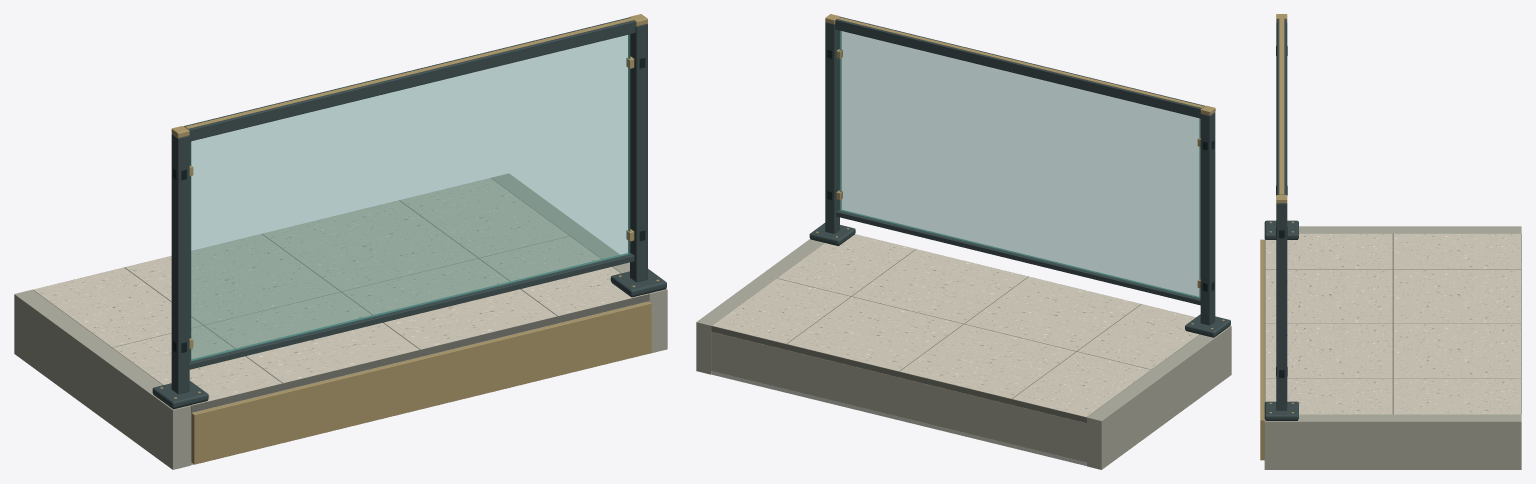
File: mall-atrium-balcony.glb
The picture shows the model from 3 angles, left to right: view 1: azimuth 30°, elevation 25°; view 2: azimuth 150°, elevation 25°; view 3: azimuth 270°, elevation 25°; orthographic projection. The views are drawn at different scales.
Visible parts, largest first — view 1: RAILING_GLASS editable panel, EDGE_Fascia, ENDCAP_Left, FLOOR_Tile_7, FLOOR_Tile_6, FLOOR_Tile_3, FLOOR_Tile_2, FLOOR_Tile_8, RAILING_Continuous top handrail, FLOOR_Tile_5, FLOOR_Tile_4, FLOOR_Tile_1 (+9 smaller); view 2: RAILING_GLASS editable panel, DECK_Slab, ENDCAP_Left, FLOOR_Tile_7, FLOOR_Tile_2, FLOOR_Tile_3, FLOOR_Tile_6, FLOOR_Tile_5, FLOOR_Tile_8, RAILING_Continuous top handrail, FLOOR_Tile_4, FLOOR_Tile_1 (+10 smaller); view 3: ENDCAP_Right, FLOOR_Tile_7, FLOOR_Tile_6, FLOOR_Tile_3, FLOOR_Tile_2, FLOOR_Tile_5, FLOOR_Tile_8, FLOOR_Tile_1, FLOOR_Tile_4, RAILING_Post upright.001, ENDCAP_Left, EDGE_Fascia (+6 smaller).
Part boxes in pixels (x1,y1,x2,y2): RAILING_GLASS editable panel: (190,34,629,360); EDGE_Fascia: (191,301,651,464); ENDCAP_Left: (14,289,190,469); FLOOR_Tile_7: (263,200,476,291); FLOOR_Tile_6: (125,234,339,324); FLOOR_Tile_3: (342,258,556,349); FLOOR_Tile_2: (204,292,419,383); FLOOR_Tile_8: (400,178,568,257); RAILING_Continuous top handrail: (184,17,635,141); FLOOR_Tile_5: (33,267,202,347); FLOOR_Tile_4: (479,236,648,315); FLOOR_Tile_1: (113,326,281,405); RAILING_GLASS editable panel: (840,31,1199,297); DECK_Slab: (711,331,1086,462); ENDCAP_Left: (1086,325,1231,469); FLOOR_Tile_7: (787,297,962,371); FLOOR_Tile_2: (965,276,1140,351); FLOOR_Tile_3: (852,249,1027,323); FLOOR_Tile_6: (900,324,1075,398); FLOOR_Tile_5: (1012,352,1150,417); FLOOR_Tile_8: (712,278,850,343); RAILING_Continuous top handrail: (835,16,1204,118); FLOOR_Tile_4: (777,234,915,296); FLOOR_Tile_1: (1077,304,1199,369); ENDCAP_Right: (1264,414,1521,469); FLOOR_Tile_7: (1393,324,1520,378); FLOOR_Tile_6: (1393,270,1520,323); FLOOR_Tile_3: (1265,324,1392,378); FLOOR_Tile_2: (1265,270,1392,323); FLOOR_Tile_5: (1393,233,1520,269); FLOOR_Tile_8: (1393,378,1520,414); FLOOR_Tile_1: (1265,233,1392,269); FLOOR_Tile_4: (1265,378,1392,414); RAILING_Post upright.001: (1276,203,1287,410); ENDCAP_Left: (1299,226,1521,233); EDGE_Fascia: (1260,239,1264,460).
Size of the model in its own units: 2.16 by 1.37 by 1.22.
Materials: 11 (1 with a texture image).
